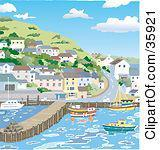boat: (102, 115, 135, 134), (66, 103, 97, 119), (107, 98, 136, 111), (1, 98, 25, 110)
